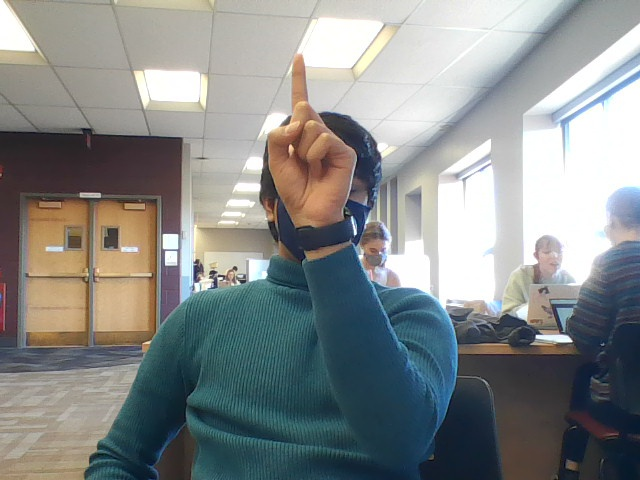one: (258, 49, 372, 228)
